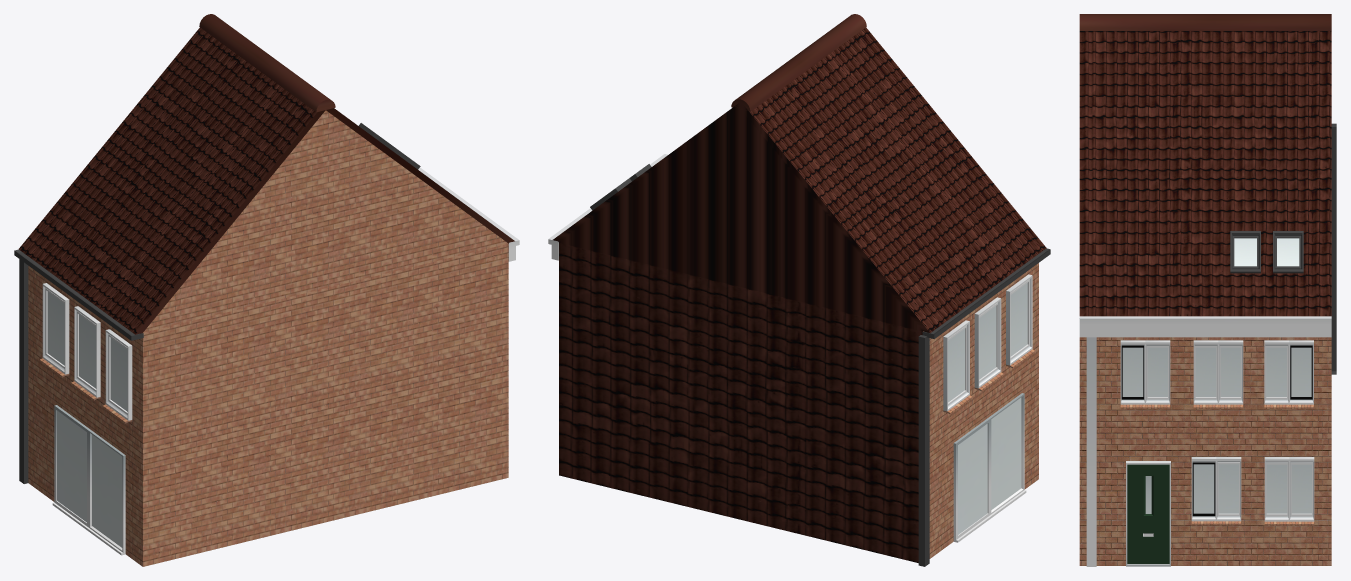
Rendered from It_Bynt_20.fbx.
3 renders of one model, left to right at view 1: azimuth 30°, elevation 25°; view 2: azimuth 150°, elevation 25°; view 3: azimuth 270°, elevation 25°, orthographic. The views are drawn at different scales.
Parts seen in each view (by area): view 1: It_Bynt_20; view 2: It_Bynt_20; view 3: It_Bynt_20.
Part boxes in pixels (x1=…): It_Bynt_20: x1=14, y1=14, x2=519, y2=566; It_Bynt_20: x1=548, y1=14, x2=1050, y2=566; It_Bynt_20: x1=1079, y1=14, x2=1336, y2=566.
Bounding box in the file's own units: 1006 × 1047 × 536.
